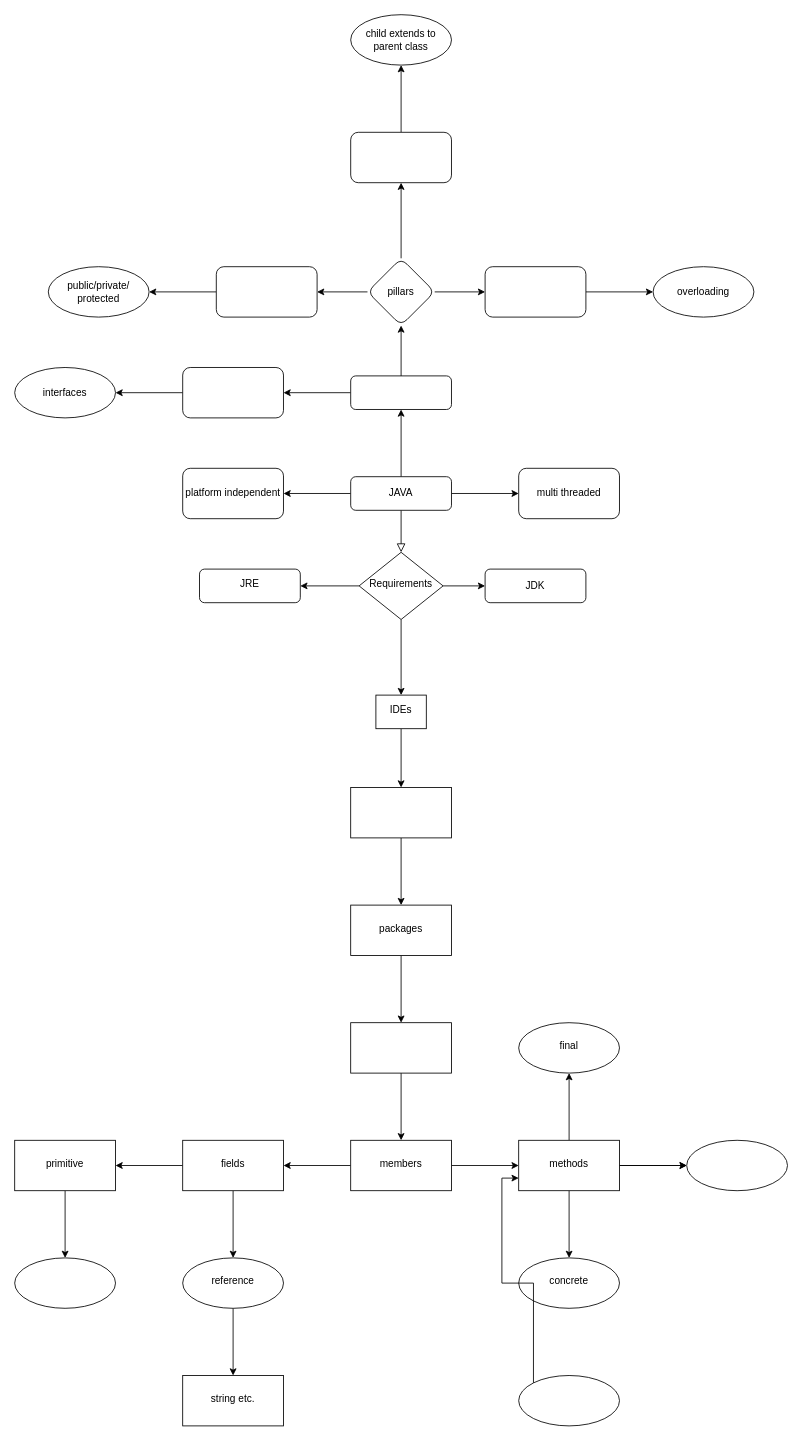
This 802x1441 diagram has some shape labels left out. Here are the shapes that lost their labels. From the top down, the box of each, then its label:
(350, 131, 452, 183): inheritance
(215, 266, 317, 317): encapsulation
(484, 266, 586, 317): polymorphism
(182, 367, 284, 418): abstruction
(350, 375, 452, 410): OOPS
(350, 787, 452, 838): basics of java
(350, 1022, 452, 1073): class
(686, 1139, 788, 1191): constructor
(14, 1257, 116, 1308): boolean/double/float /int/char/short/byte
(518, 1375, 620, 1426): abstruct
